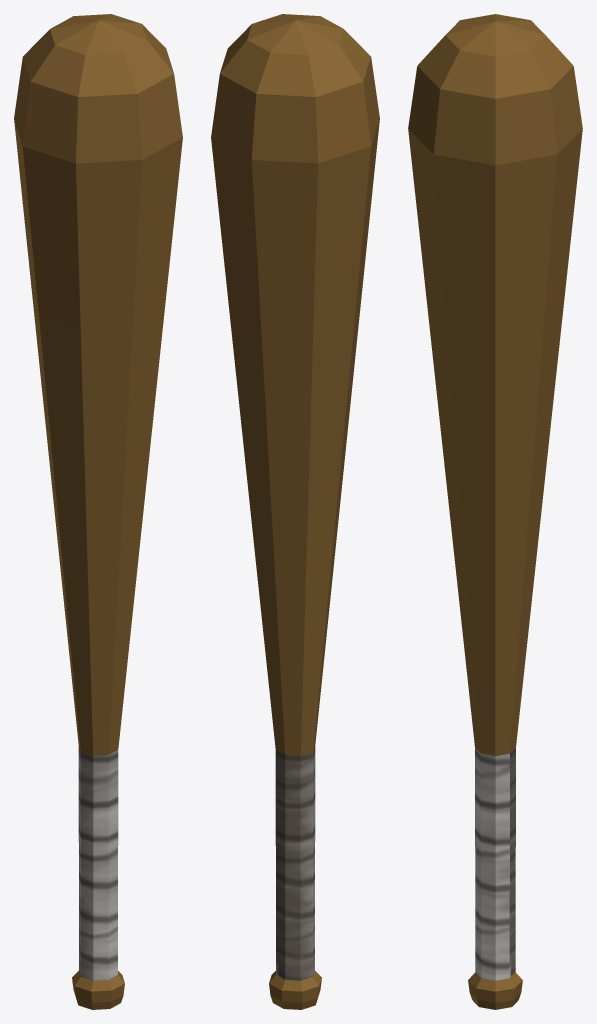
Rendered from gaybongchay.fbx.
3 views of the same model, side by side, from view 1: azimuth 30°, elevation 25°; view 2: azimuth 150°, elevation 25°; view 3: azimuth 270°, elevation 25° (orthographic).
Visible parts, largest first — view 1: gaybongchay; view 2: gaybongchay; view 3: gaybongchay.
Boxes of the visible parts, <box> form: gaybongchay: <box>14,14,182,1009</box>; gaybongchay: <box>211,14,379,1009</box>; gaybongchay: <box>408,14,582,1009</box>.
Size of the model in its own units: 0.8513 by 5.26 by 0.8513.
